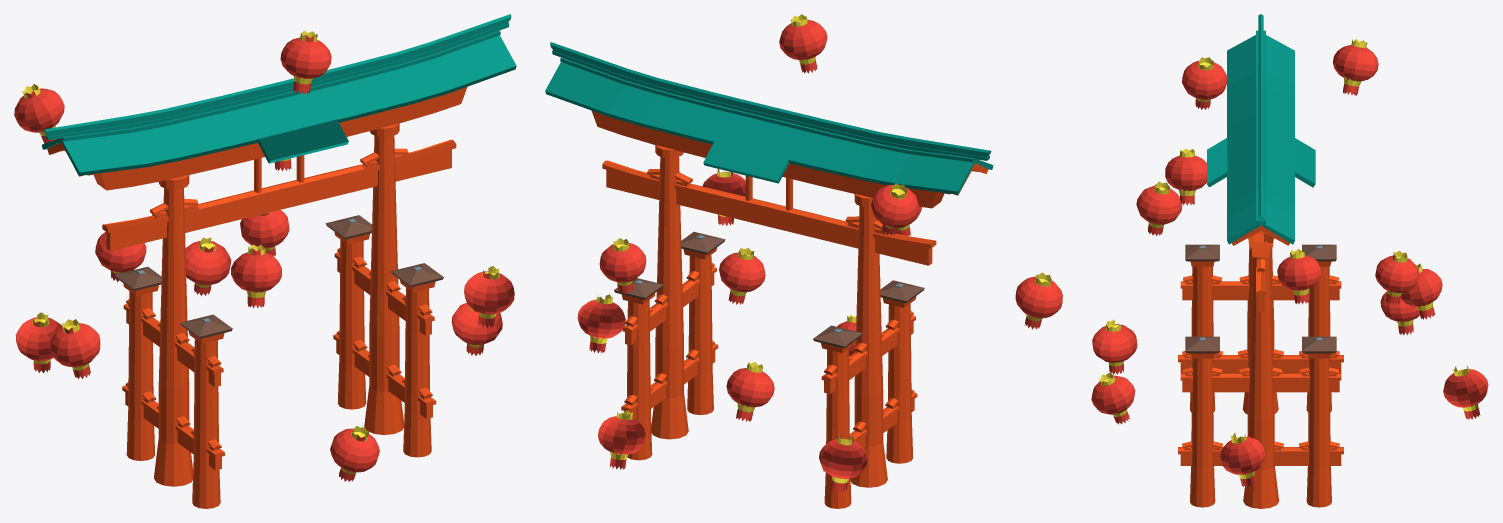
File: Torii-transformed.glb
3 views of the same model, side by side, from view 1: azimuth 30°, elevation 25°; view 2: azimuth 150°, elevation 25°; view 3: azimuth 270°, elevation 25° (orthographic). The views are drawn at different scales.
Parts seen in each view (by area): view 1: group1663585988, group1562799948, group1119409316, group1978873540; view 2: group1663585988, group1562799948, group1119409316, group1978873540; view 3: group1663585988, group1119409316, group1562799948, group1978873540.
Part boxes in pixels (x1=…): group1663585988: x1=47, y1=87, x2=467, y2=508; group1562799948: x1=42, y1=14, x2=516, y2=175; group1119409316: x1=14, y1=30, x2=514, y2=481; group1978873540: x1=114, y1=215, x2=443, y2=338; group1663585988: x1=591, y1=111, x2=988, y2=508; group1562799948: x1=545, y1=42, x2=993, y2=194; group1119409316: x1=577, y1=14, x2=1062, y2=492; group1978873540: x1=614, y1=231, x2=924, y2=348; group1663585988: x1=1178, y1=225, x2=1343, y2=508; group1119409316: x1=1091, y1=39, x2=1488, y2=487; group1562799948: x1=1207, y1=14, x2=1315, y2=244; group1978873540: x1=1185, y1=244, x2=1336, y2=353.
Bounding box in the file's own units: 6.06 × 5.17 × 4.69.
